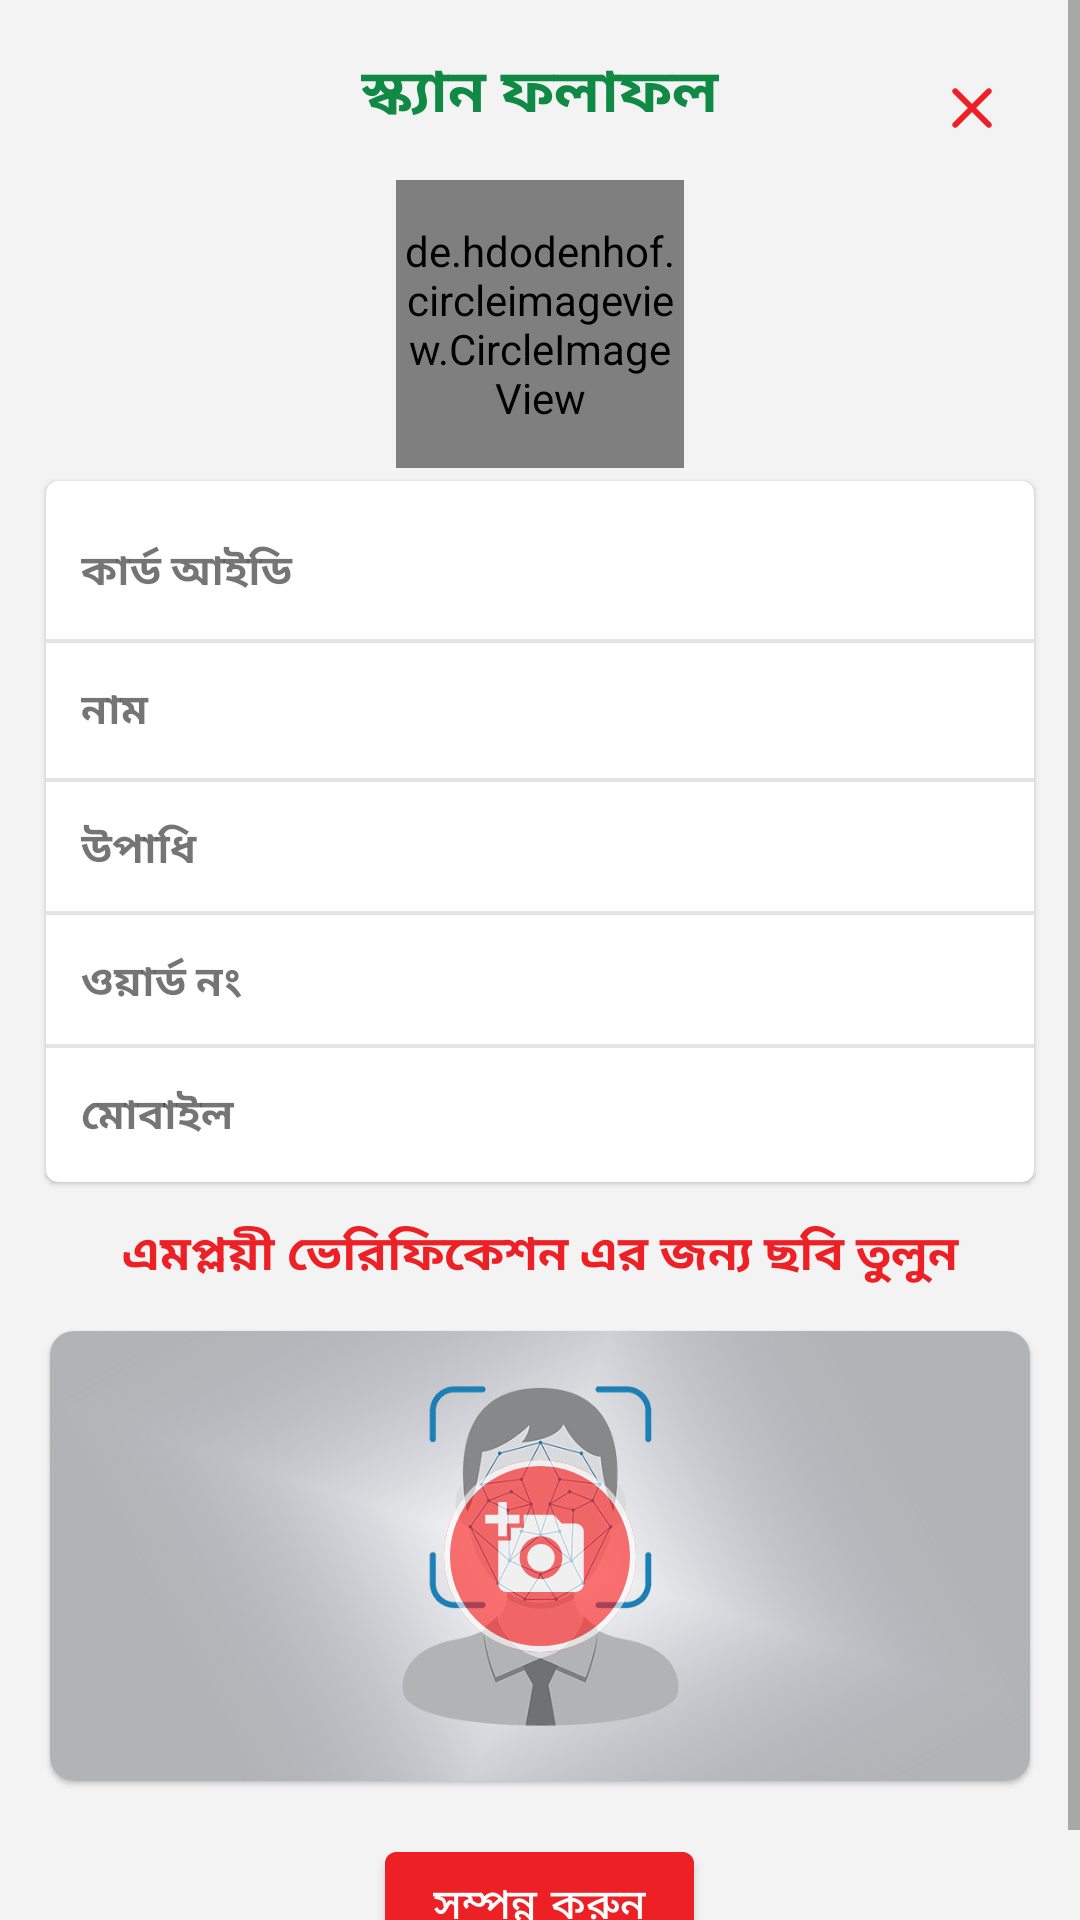

Icons on this 1080 × 1920 Android screen, each with its box as bbox=[x1, y1, x2, y2]:
close: bbox=[952, 88, 992, 128]
